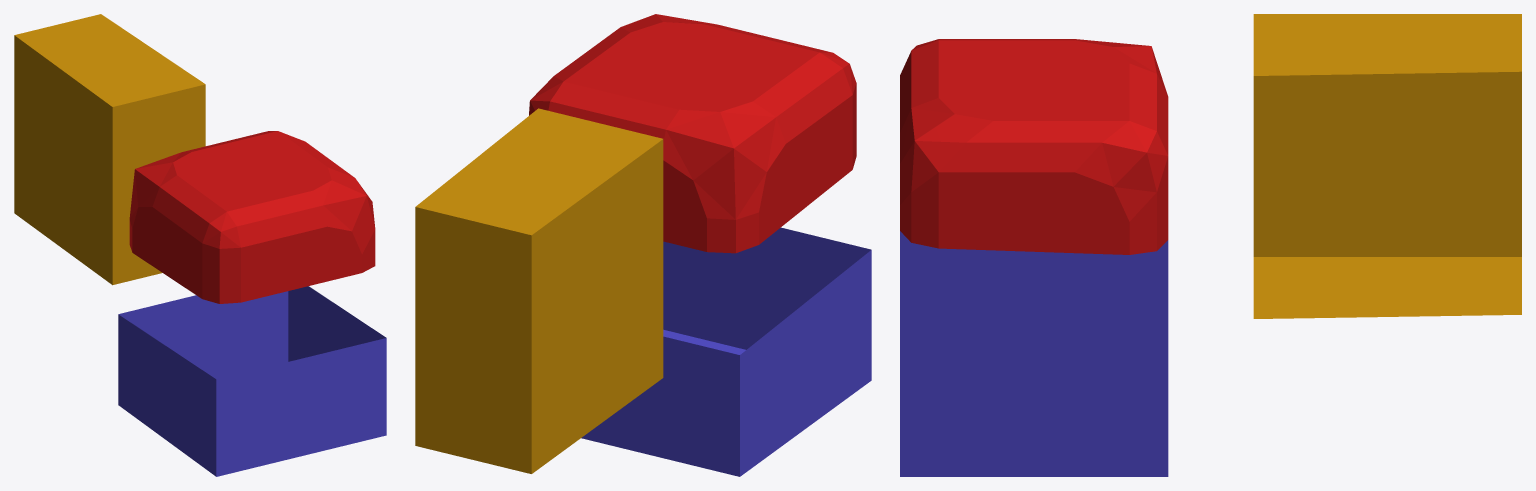
The model's file is kusocube.fbx.
3 views of the same model, side by side, from view 1: azimuth 30°, elevation 25°; view 2: azimuth 150°, elevation 25°; view 3: azimuth 270°, elevation 25° (orthographic). The views are drawn at different scales.
Parts seen in each view (by area): view 1: Cube.002, Cube.000, Cube.001; view 2: Cube.000, Cube.001, Cube.002; view 3: Cube.000, Cube.002, Cube.001.
Part boxes in pixels (left/top/right/bottom): Cube.002: left=118, top=286, right=386, bottom=476; Cube.000: left=14, top=14, right=205, bottom=285; Cube.001: left=129, top=131, right=375, bottom=303; Cube.000: left=415, top=108, right=663, bottom=473; Cube.001: left=529, top=14, right=856, bottom=253; Cube.002: left=581, top=227, right=871, bottom=476; Cube.000: left=1253, top=14, right=1521, bottom=318; Cube.002: left=900, top=231, right=1168, bottom=476; Cube.001: left=900, top=39, right=1168, bottom=254.
Bounding box in the file's own units: 200 × 302 × 464.
